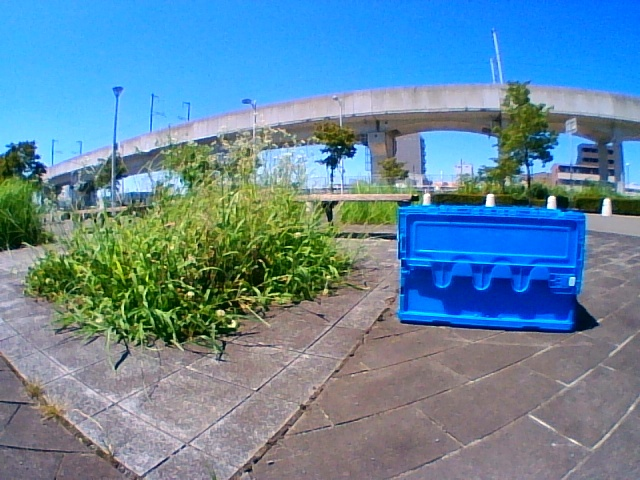blue_box: (399, 208, 574, 322)
